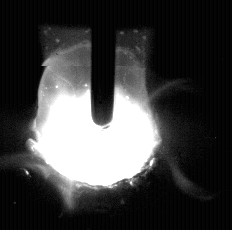arame: (92, 0, 115, 129)
poca: (36, 0, 161, 230)
